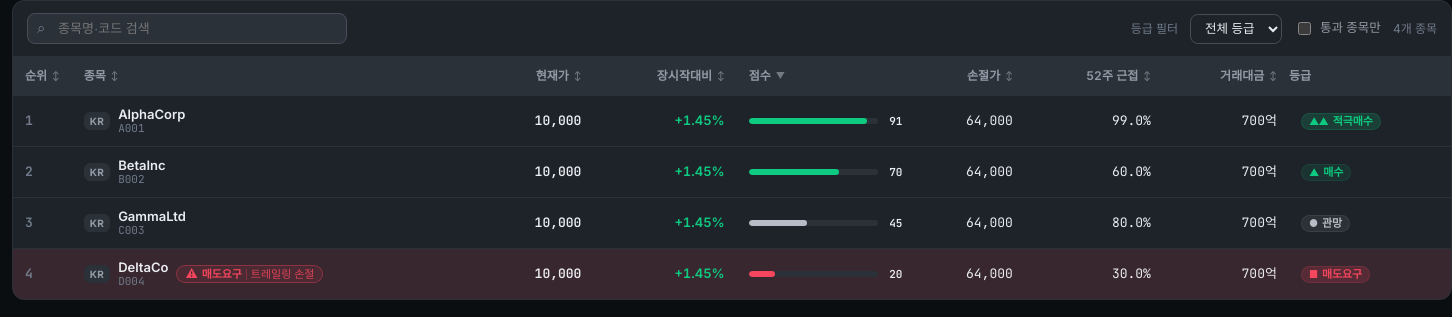
it: RankingTable › filters to eligible-only entries
The width and height of the screenshot is (1452, 317).
Step 1. Click the checkbox → click(1304, 28), box 1298,22 -> 1311,35
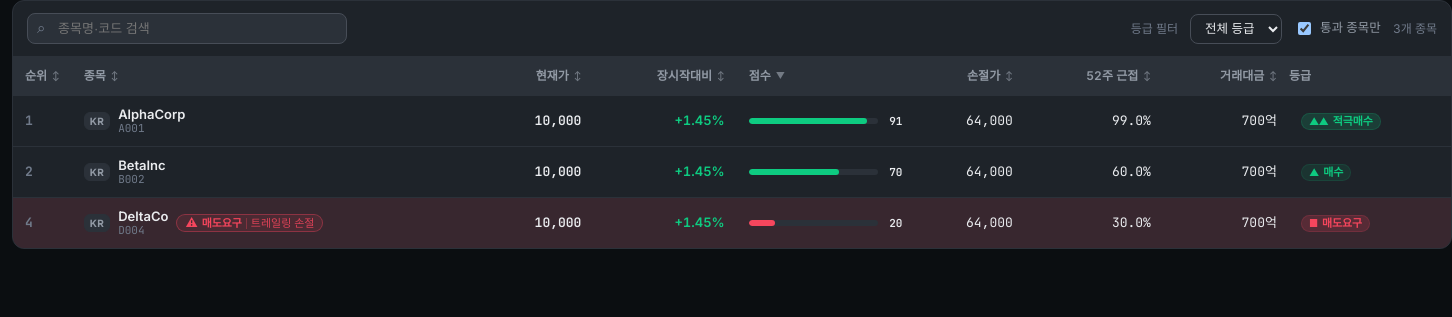
Check: the text "AlphaCorp" is shown, box 118,106 -> 185,122
Check: the button "GammaLtd" is gone
